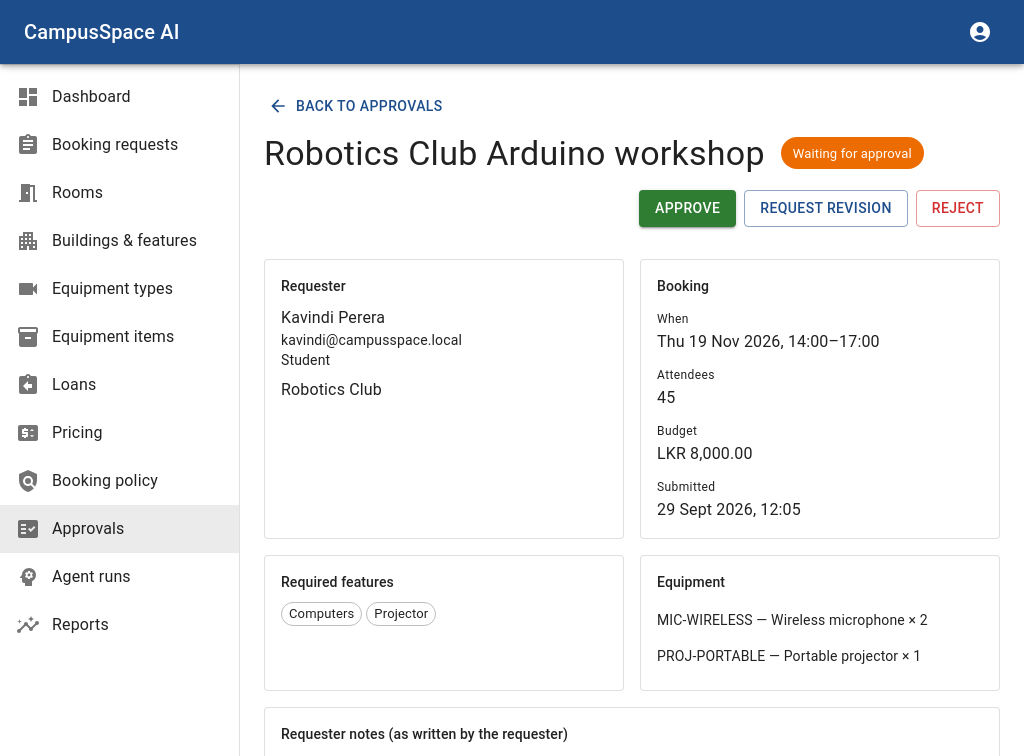
ApprovalDetailPage › approve 409 (a new proposal) shows the server message exactly as sent and refetches
Click the button "Approve" at (688, 209), box [639,190,736,227]
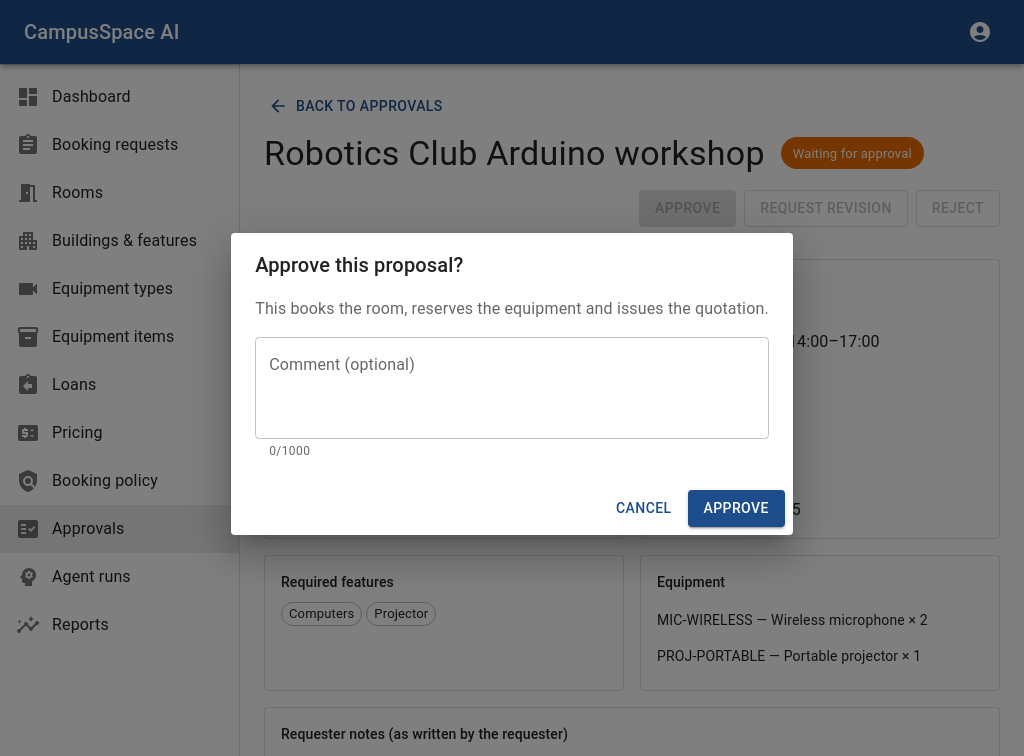
Click the button "Approve" at (736, 508), box [688,490,785,527]
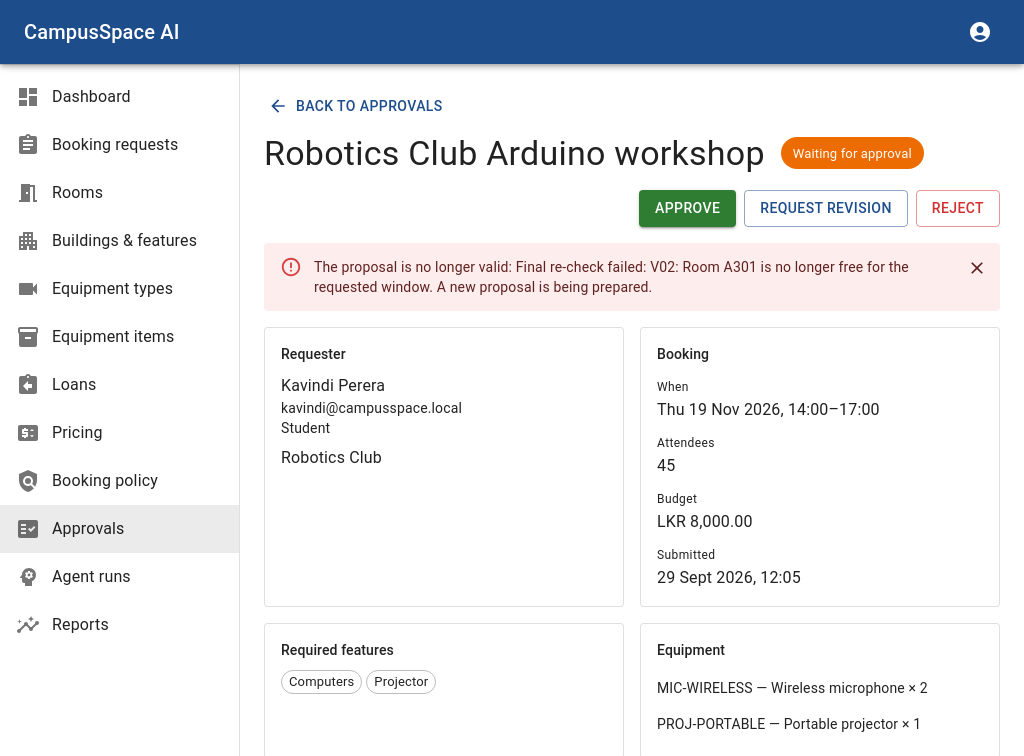
Now the message with test id "decision-conflict" shows "The proposal is no longer valid: Final re-check failed: V02: Room A301 is no longer free for the requested window. A new proposal is being prepared.", box [314,259,909,295]
Now the dialog is gone
